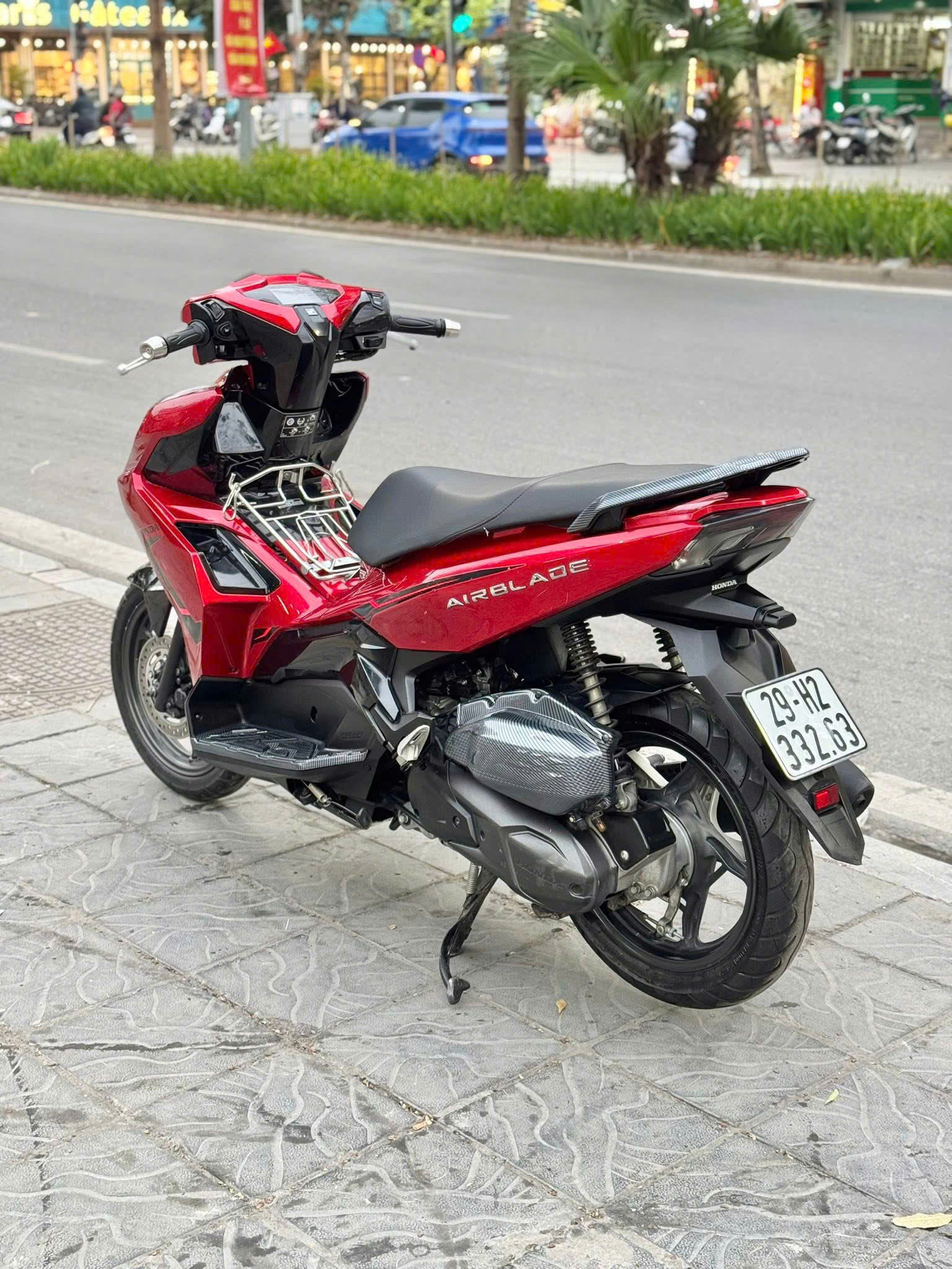Bien-so: (738, 661, 867, 783)
